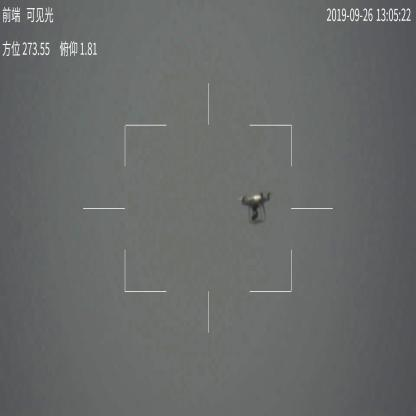uav: (233, 192, 275, 225)
